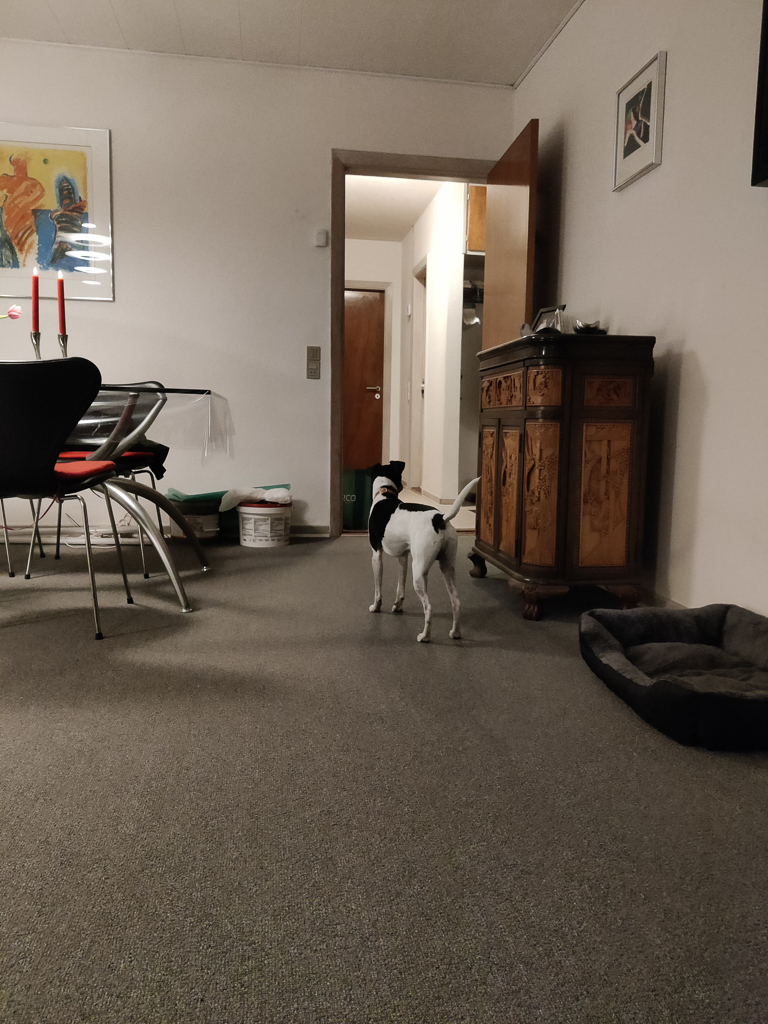Dog: (356, 453, 484, 652)
